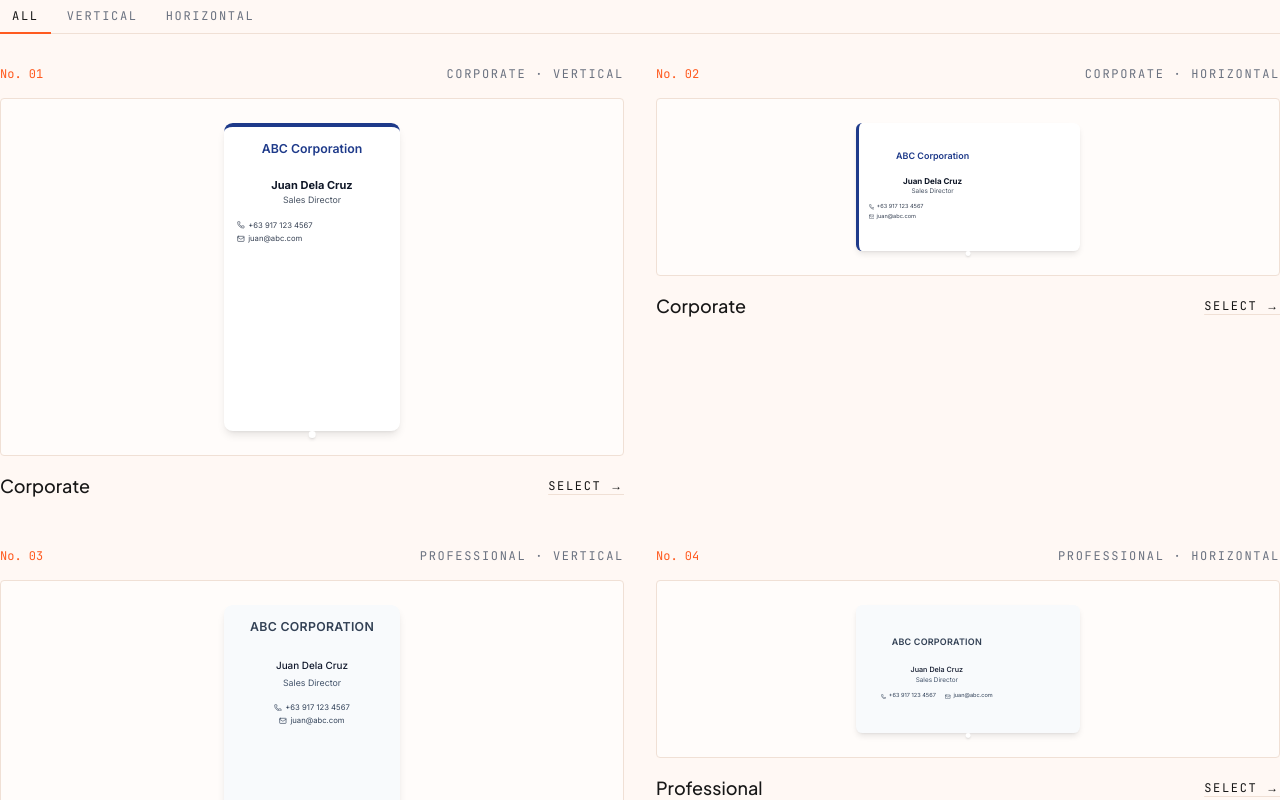
Test: TemplateGallery › opens a larger preview when a card thumbnail is clicked, and closes it again
The width and height of the screenshot is (1280, 800).
Click the button with aria-label "view a larger preview" at (312, 277), box [0,98,624,456]
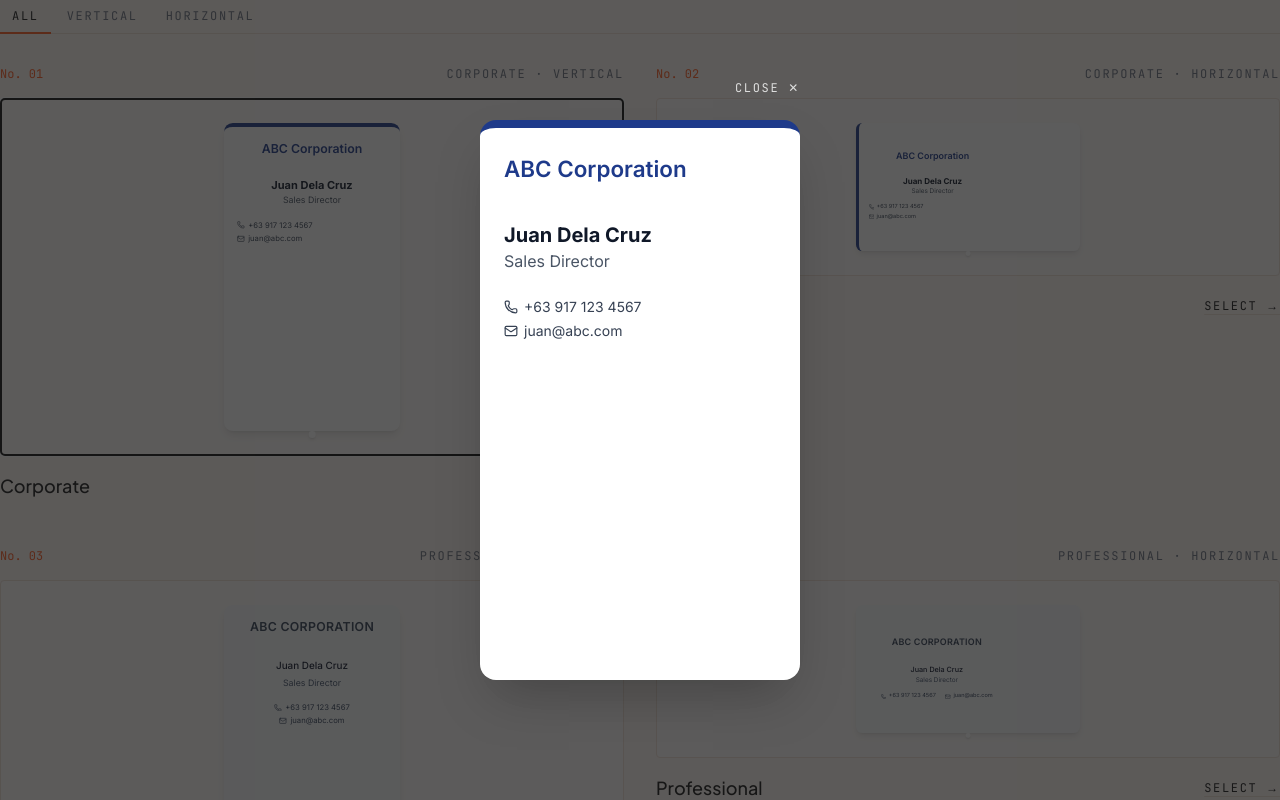
Expected: the dialog is shown
Click the button with aria-label "close preview" at (768, 88), box [735,80,800,96]
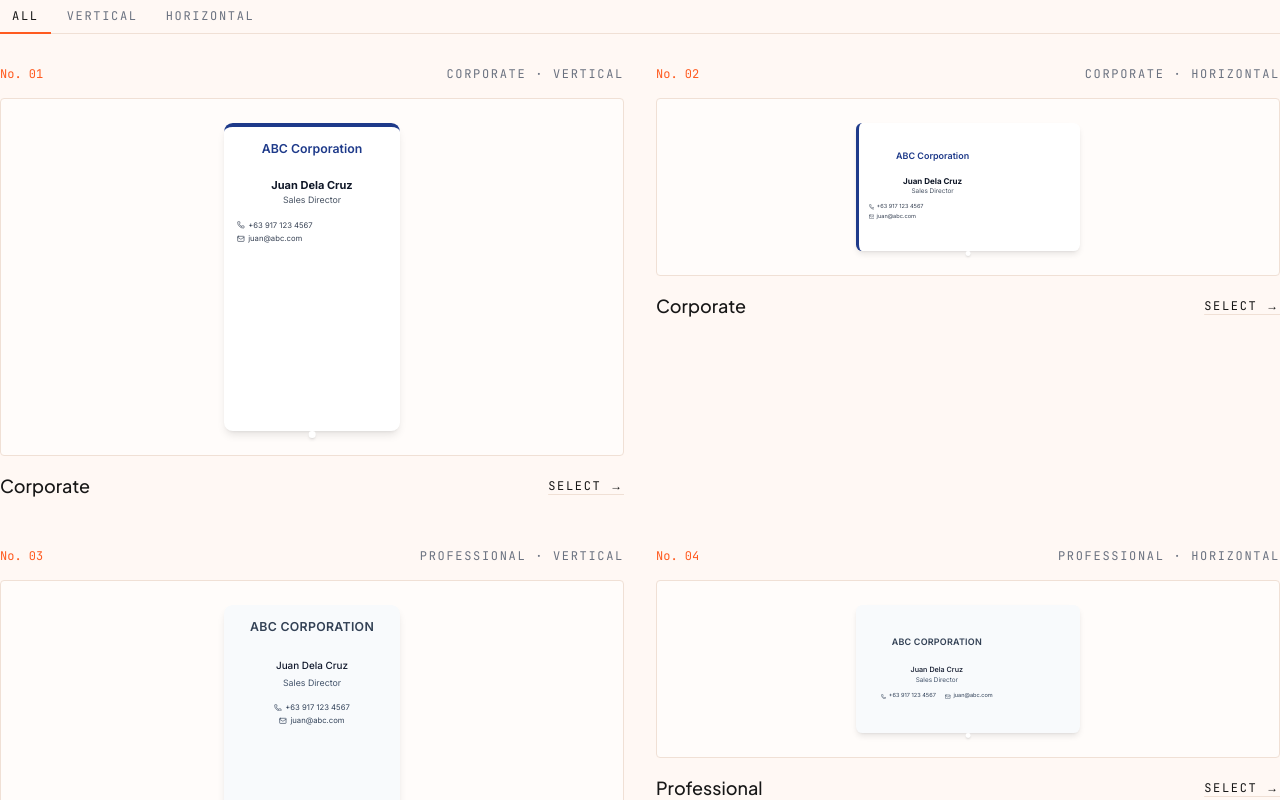
Expected: the dialog is gone
